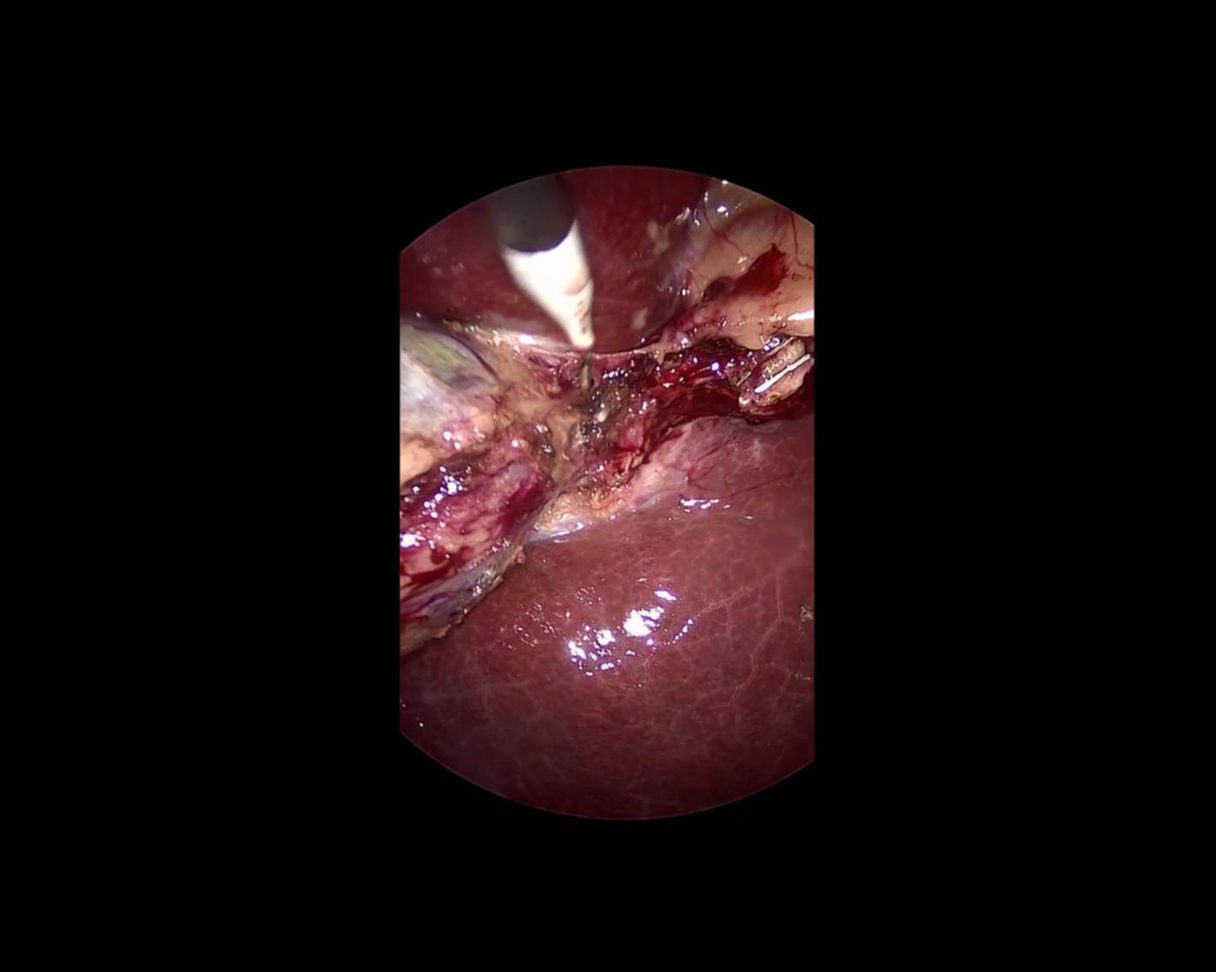Cautery: (478, 170, 639, 406)
Gallbladder: (402, 315, 556, 653)
Liver: (404, 410, 812, 813), (388, 129, 706, 366)
